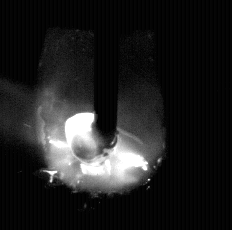arame: (95, 0, 118, 148)
poca: (35, 0, 164, 230)
